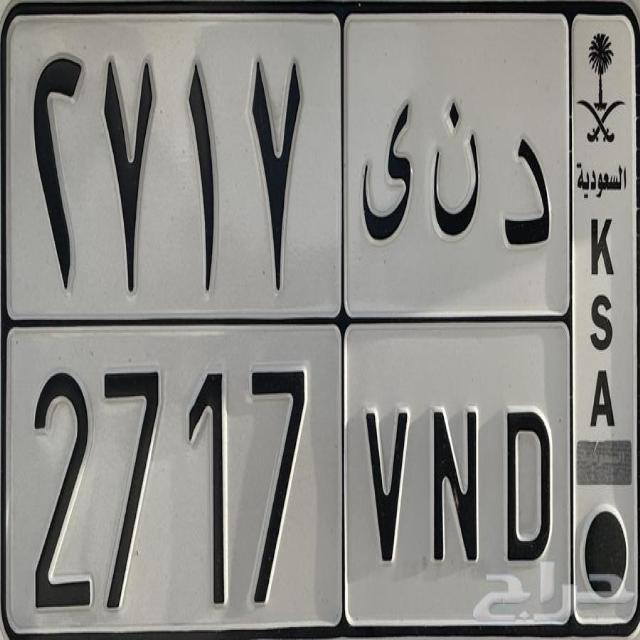license_plate: (26, 358, 563, 611)
